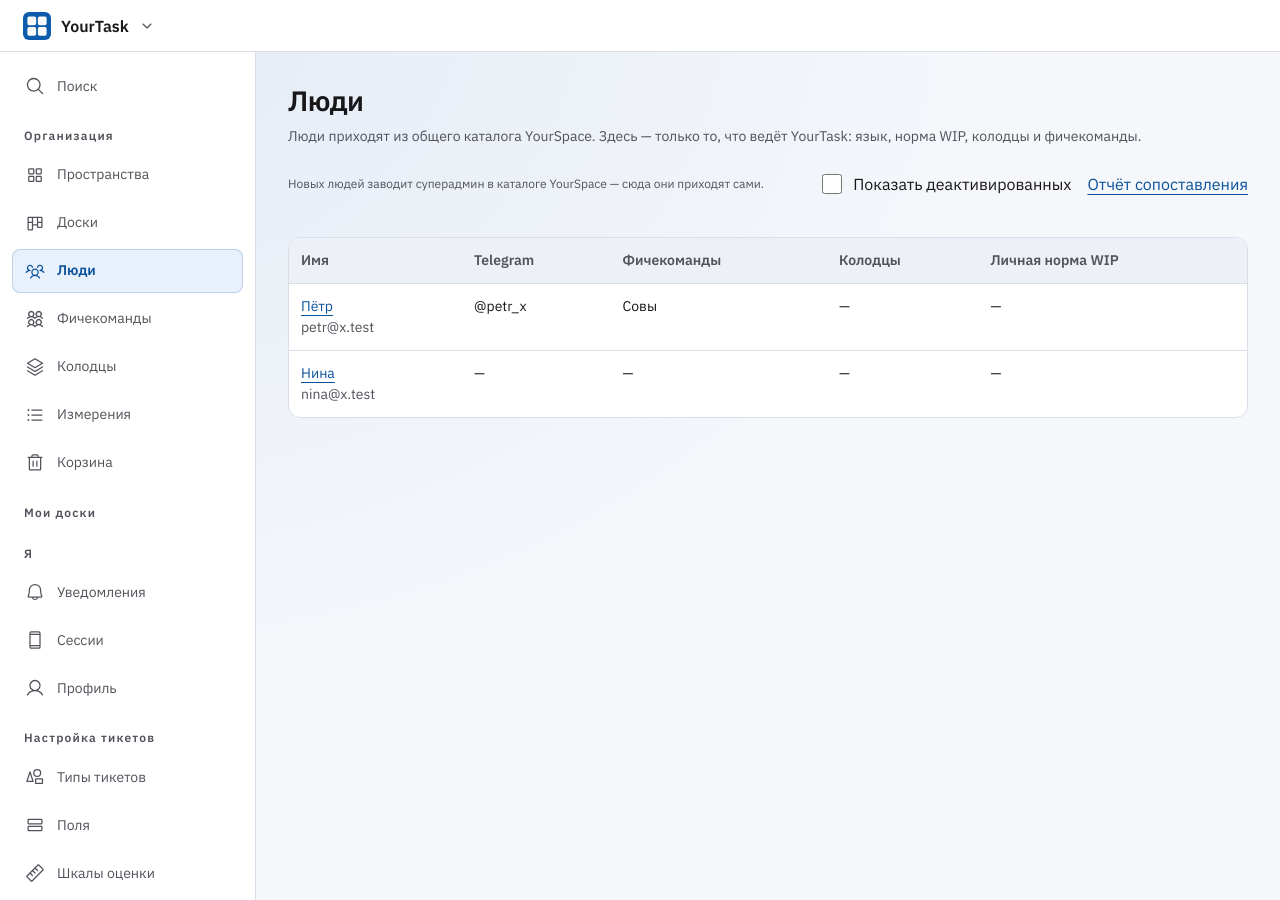
directory › people list hides the deactivated until asked and has no add form
Expected: the link "Пётр" is shown, [301, 297, 333, 315]
Click the checkbox labelled "Показать деактивированных": point(832, 184) [822, 174, 842, 194]
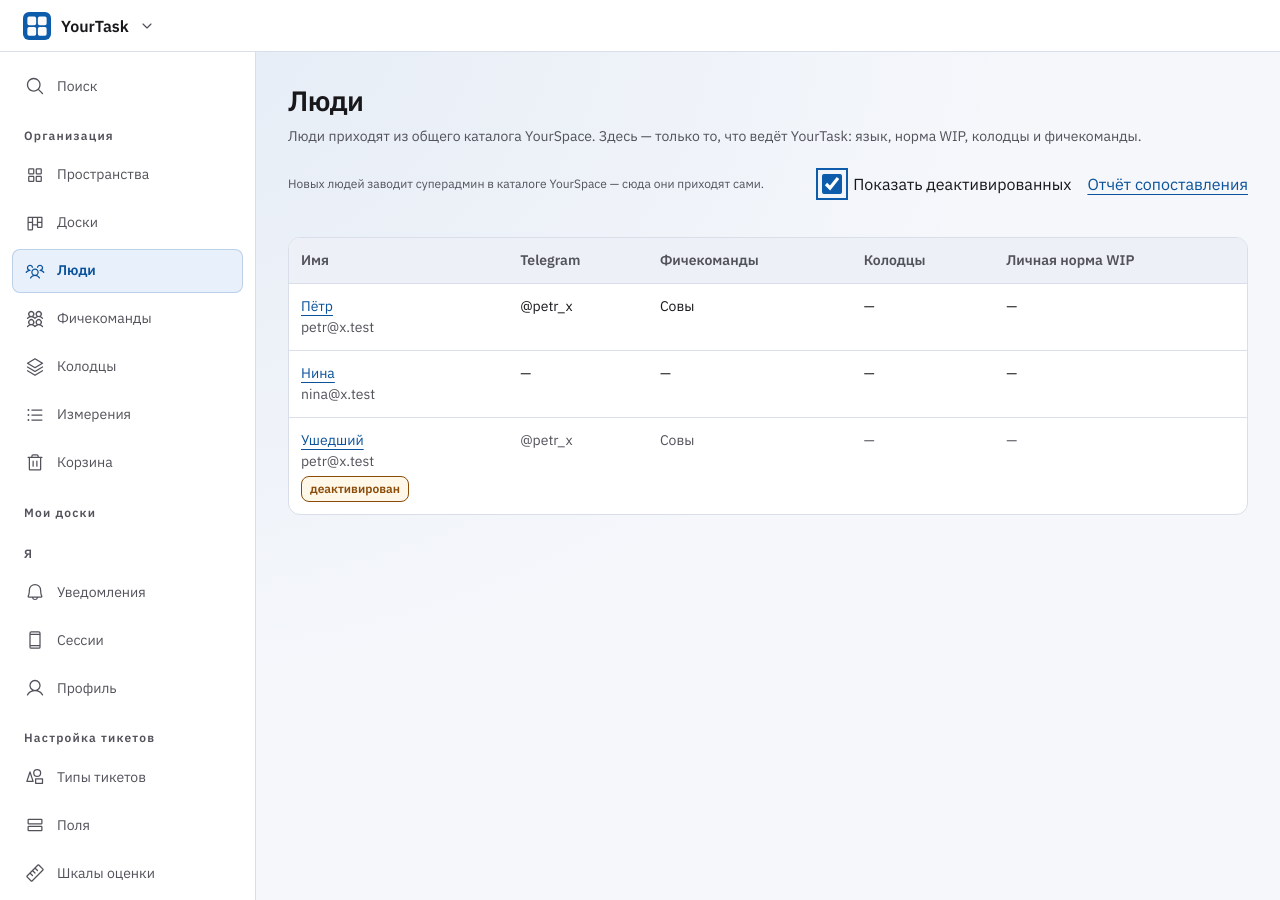
Result: the link "Ушедший" is shown at [301, 431, 364, 449]
Result: the text "деактивирован" is shown at [301, 476, 409, 502]
